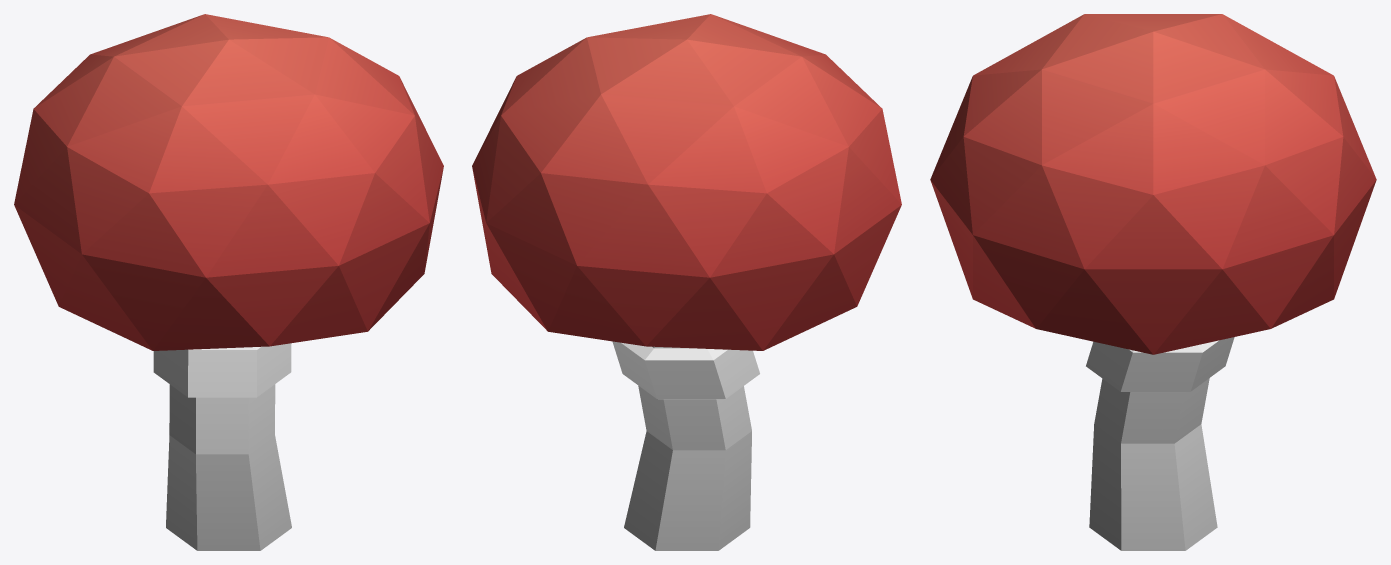
Rendered from Mesh_Nature_Mushroom_02.FBX.
3 views of the same model, side by side, from view 1: azimuth 30°, elevation 25°; view 2: azimuth 150°, elevation 25°; view 3: azimuth 270°, elevation 25° (orthographic).
Visible parts, largest first — view 1: Mesh_Nature_Mushroom_02; view 2: Mesh_Nature_Mushroom_02; view 3: Mesh_Nature_Mushroom_02.
Part boxes in pixels (box(x1,y1,x2,y2)): Mesh_Nature_Mushroom_02: box(14, 14, 443, 550); Mesh_Nature_Mushroom_02: box(472, 14, 901, 550); Mesh_Nature_Mushroom_02: box(930, 14, 1376, 550).
Size of what is drawn, in the model's own units: 38.16 by 40.12 by 49.17.
